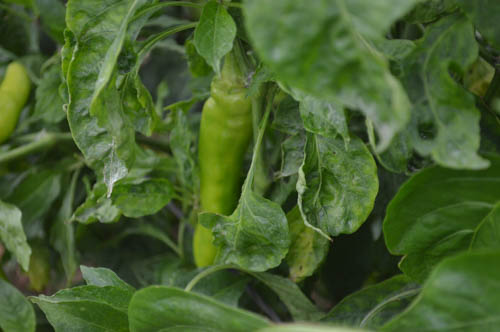ChiliPepper: (193, 89, 256, 269), (3, 65, 33, 145)
